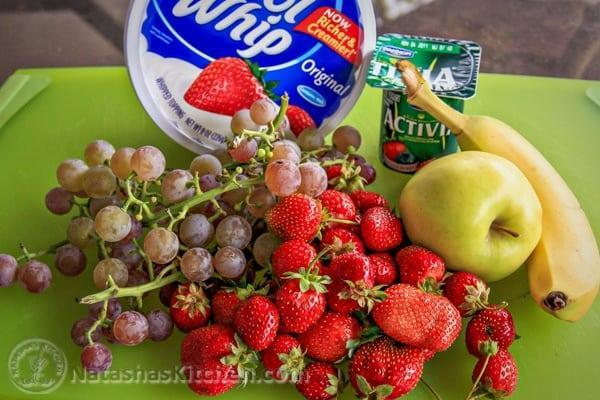apple: (399, 152, 543, 282)
